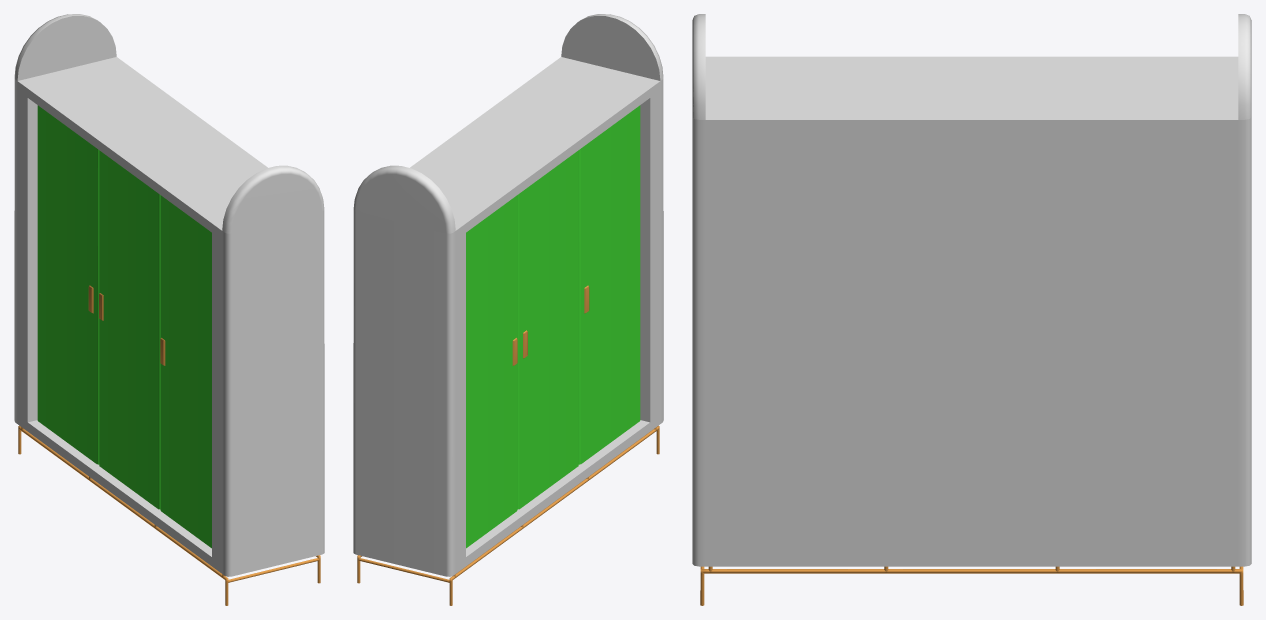
File: closet.fbx
The picture shows the model from 3 angles, left to right: view 1: azimuth 30°, elevation 25°; view 2: azimuth 150°, elevation 25°; view 3: azimuth 270°, elevation 25°; orthographic projection. The views are drawn at different scales.
Visible parts, largest first — view 1: closet, closet_door1, closet_door2, closet_door3; view 2: closet, closet_door3, closet_door2, closet_door1; view 3: closet.
Part boxes in pixels (box(x1,y1,x2,y2)): closet: box(14, 14, 324, 605); closet_door1: box(37, 105, 99, 464); closet_door2: box(99, 150, 160, 509); closet_door3: box(160, 195, 211, 548); closet: box(353, 14, 663, 605); closet_door3: box(578, 105, 640, 464); closet_door2: box(517, 150, 578, 509); closet_door1: box(466, 195, 517, 548); closet: box(692, 14, 1251, 605).
Bounding box in the file's own units: 0.4943 × 2.03 × 1.85.
